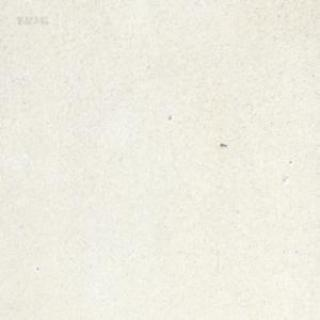Nailtrack_idkeyframe: (219, 141, 226, 146)
